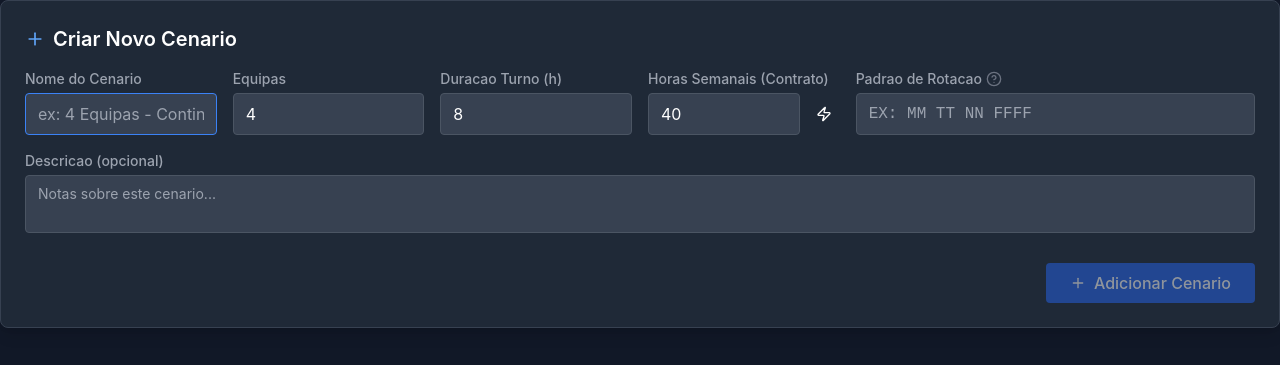
ScenarioForm › shows pattern error for invalid characters
Type "XYZ" into the field with placeholder "ex: MM TT NN FFFF". click: (1055, 114)
box: [856,93,1255,135]
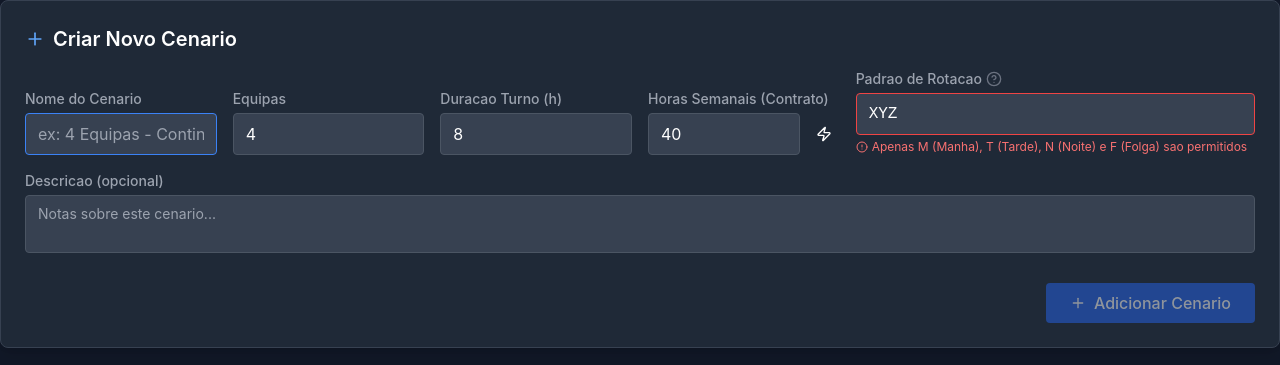
Check: the text "Apenas M (Manha), T (Tarde), N (Noite) e F (Folga) sao permitidos" is shown, box [856,139,1255,155]
